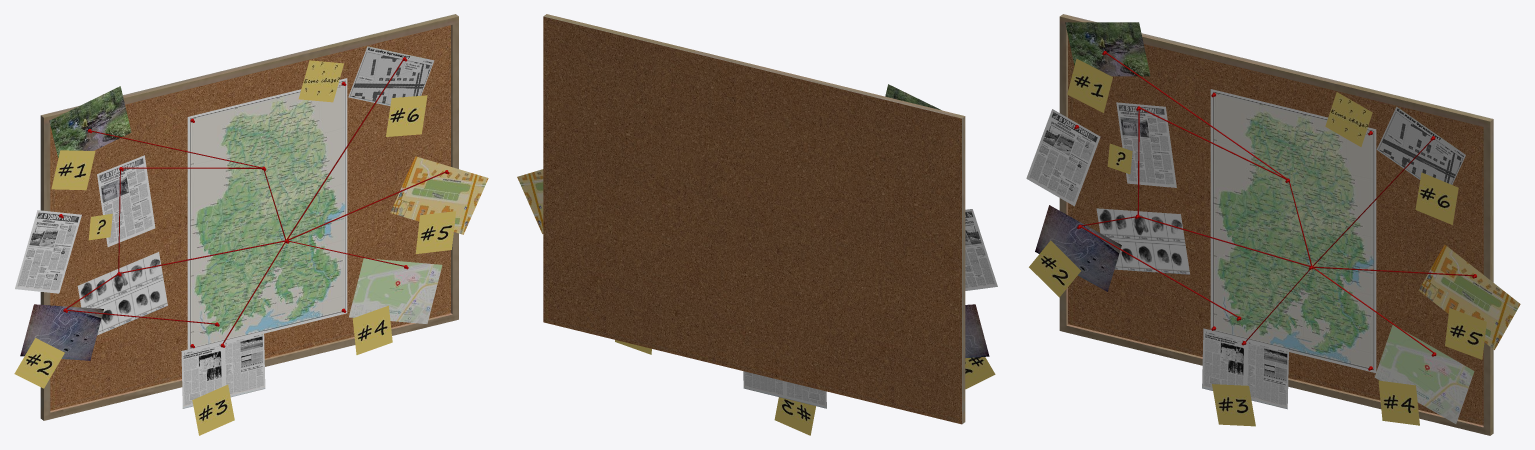
Rendered from detective_board.glb.
The picture shows the model from 3 angles, left to right: view 1: azimuth 30°, elevation 25°; view 2: azimuth 150°, elevation 25°; view 3: azimuth 330°, elevation 25°; orthographic projection. The views are drawn at different scales.
Parts seen in each view (by area): view 1: Cube, map, Plane.015, Plane.014, Plane.016, Plane.011, Plane.009, Plane.008, Plane.010, Plane.012, Plane.013, Vert (+8 smaller); view 2: Cube, Plane.009, Plane.014, Plane, Plane.013, Plane.016, Plane.002; view 3: Cube, map, Plane.015, Plane.014, Plane.011, Plane.016, Plane.009, Plane.008, Plane.010, Plane.012, Plane.013, Vert (+8 smaller).
Boxes of the visible parts, box(x1,y1,x2,y2) form: Cube: box(40, 14, 458, 420); map: box(187, 78, 347, 349); Plane.015: box(349, 258, 442, 323); Plane.014: box(181, 331, 265, 408); Plane.016: box(390, 156, 488, 234); Plane.011: box(77, 252, 167, 335); Plane.009: box(15, 210, 81, 293); Plane.008: box(97, 155, 155, 246); Plane.010: box(49, 86, 131, 157); Plane.012: box(348, 46, 434, 105); Plane.013: box(20, 304, 103, 360); Vert: box(66, 60, 444, 343); Cube: box(543, 14, 965, 424); Plane.009: box(965, 209, 997, 290); Plane.014: box(743, 371, 826, 408); Plane: box(774, 397, 815, 435); Plane.013: box(965, 304, 989, 358); Plane.016: box(517, 169, 543, 233); Plane.002: box(965, 357, 995, 389); Cube: box(1059, 14, 1493, 435); map: box(1210, 89, 1376, 372); Plane.015: box(1374, 325, 1474, 423); Plane.014: box(1202, 328, 1288, 409); Plane.011: box(1096, 208, 1189, 274); Plane.016: box(1418, 244, 1520, 349); Plane.009: box(1026, 109, 1100, 206); Plane.008: box(1116, 102, 1176, 187); Plane.010: box(1065, 22, 1150, 76); Plane.012: box(1376, 106, 1465, 184); Plane.013: box(1035, 205, 1121, 291); Vert: box(1081, 53, 1473, 352).
Bounding box in the file's own units: 1.53 × 1.13 × 0.0341.
Materials: 1 (1 with a texture image).
